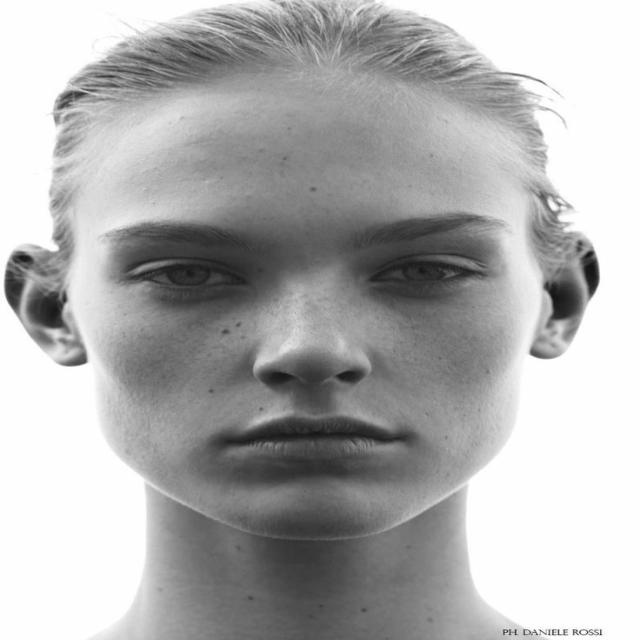earlobe: (47, 325, 90, 367), (530, 315, 570, 360)
eye: (128, 263, 251, 291), (367, 258, 482, 286)
nose: (258, 367, 374, 406)
wholeear: (4, 244, 90, 366), (530, 230, 598, 360)
